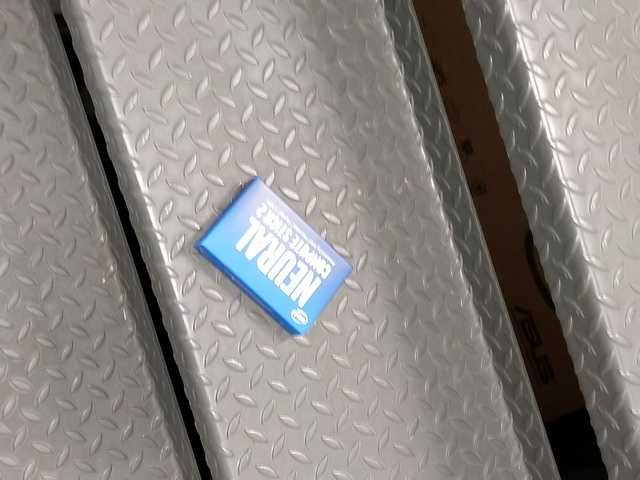box: (191, 176, 356, 338)
